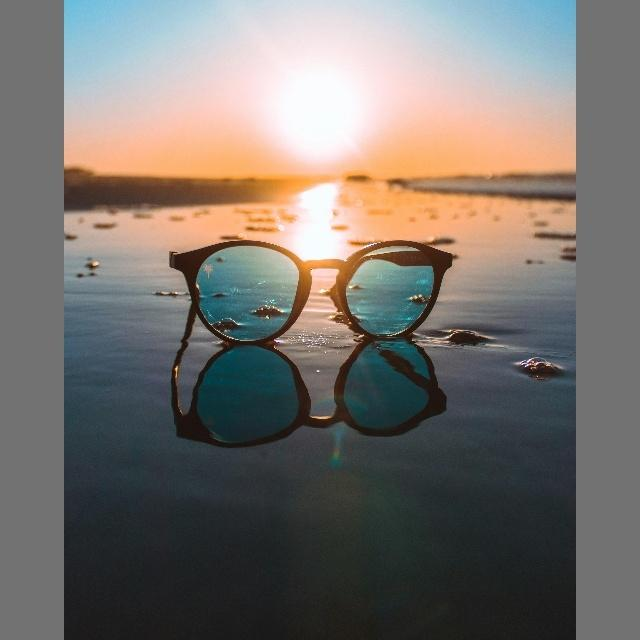Sunglasses: (161, 233, 455, 344)
